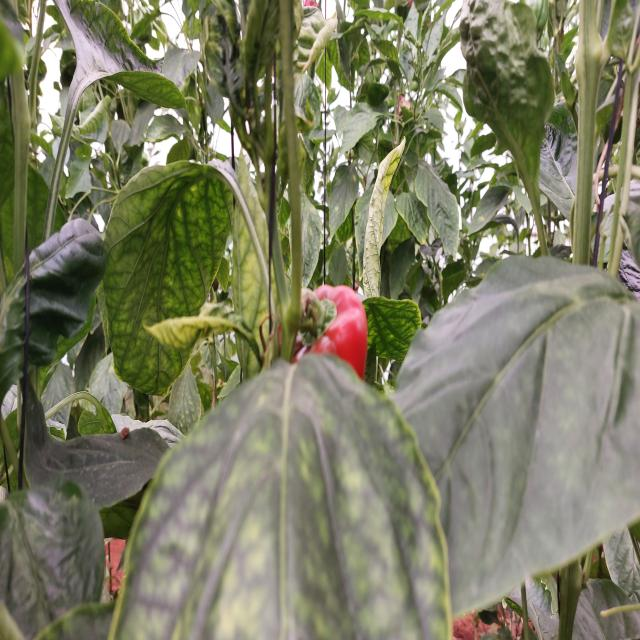Red-Ready-to-Harvest: (270, 294, 370, 388)
